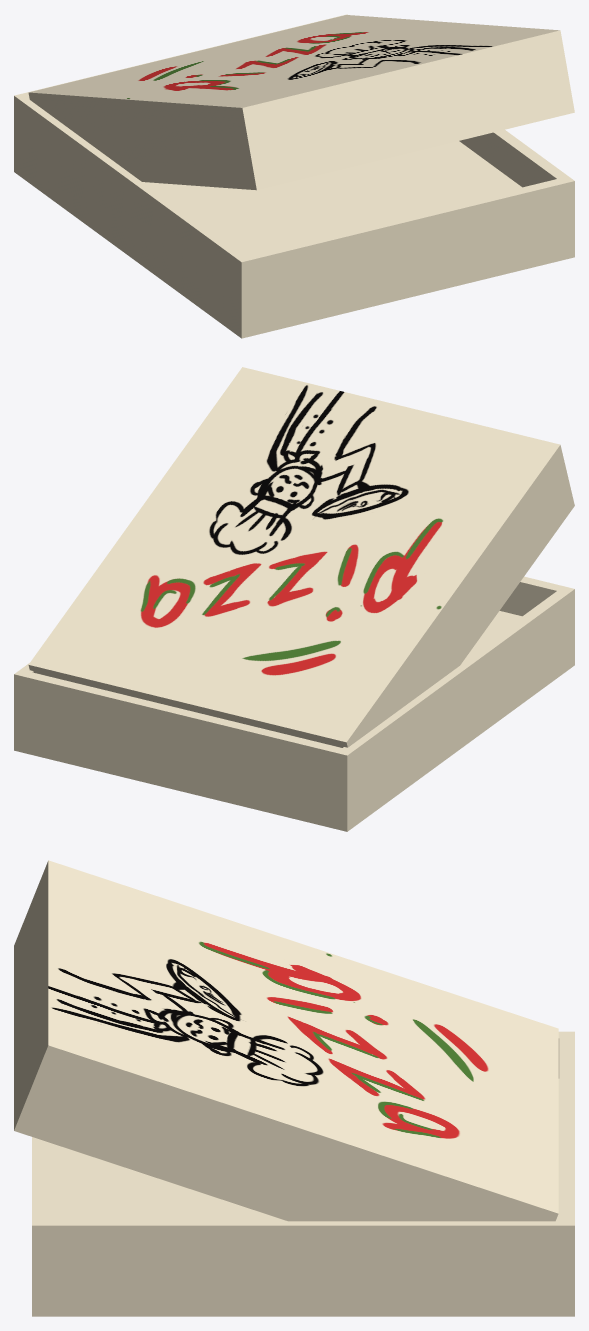
The model's file is pizza_box_02.FBX.
The picture shows the model from 3 angles, top to bottom: view 1: azimuth 30°, elevation 25°; view 2: azimuth 150°, elevation 25°; view 3: azimuth 270°, elevation 25°; orthographic projection. The views are drawn at different scales.
Parts seen in each view (by area): view 1: Box029; view 2: Box029; view 3: Box029.
Boxes of the visible parts, x1,y1,x2,y2 form: Box029: (14, 14, 574, 338); Box029: (14, 367, 574, 831); Box029: (14, 860, 574, 1316).
Size of the model in its own units: 53.09 by 34.07 by 64.89.
